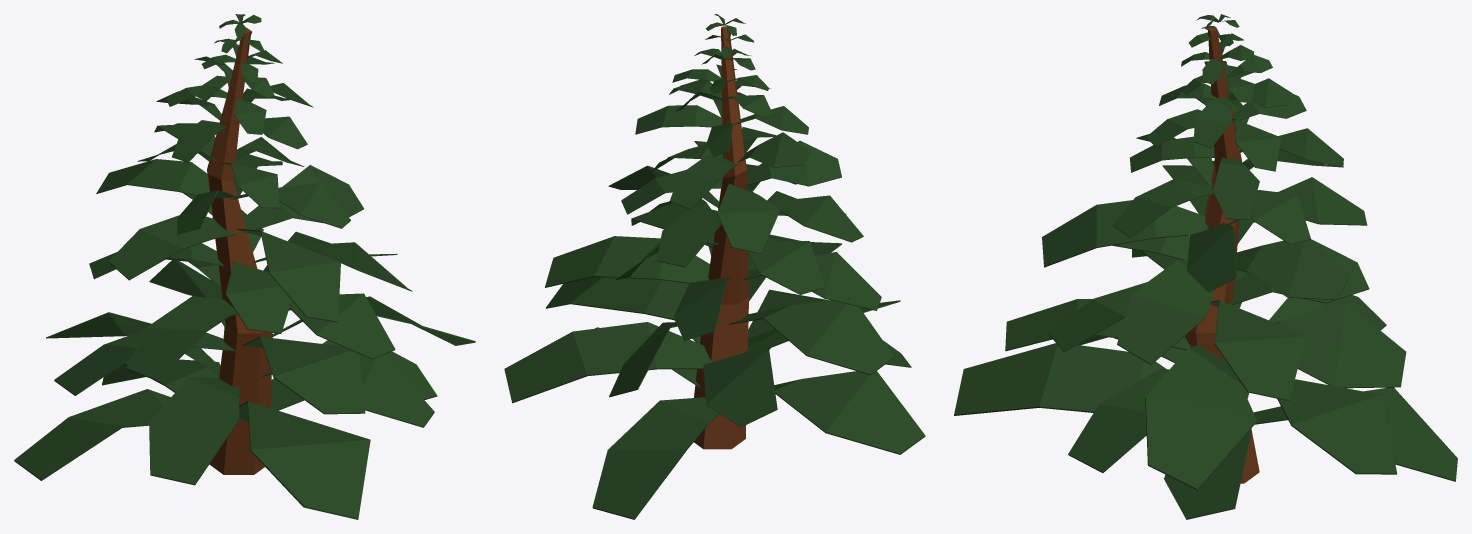
The model's file is leafTree.fbx.
3 views of the same model, side by side, from view 1: azimuth 30°, elevation 25°; view 2: azimuth 150°, elevation 25°; view 3: azimuth 270°, elevation 25° (orthographic). The views are drawn at different scales.
Visible parts, largest first — view 1: Cylinder; view 2: Cylinder; view 3: Cylinder.
Boxes of the visible parts, x1,y1,x2,y2 form: Cylinder: (14,14,475,519); Cylinder: (504,14,925,519); Cylinder: (954,14,1457,519).
Size of the model in its own units: 852 by 893 by 893.
